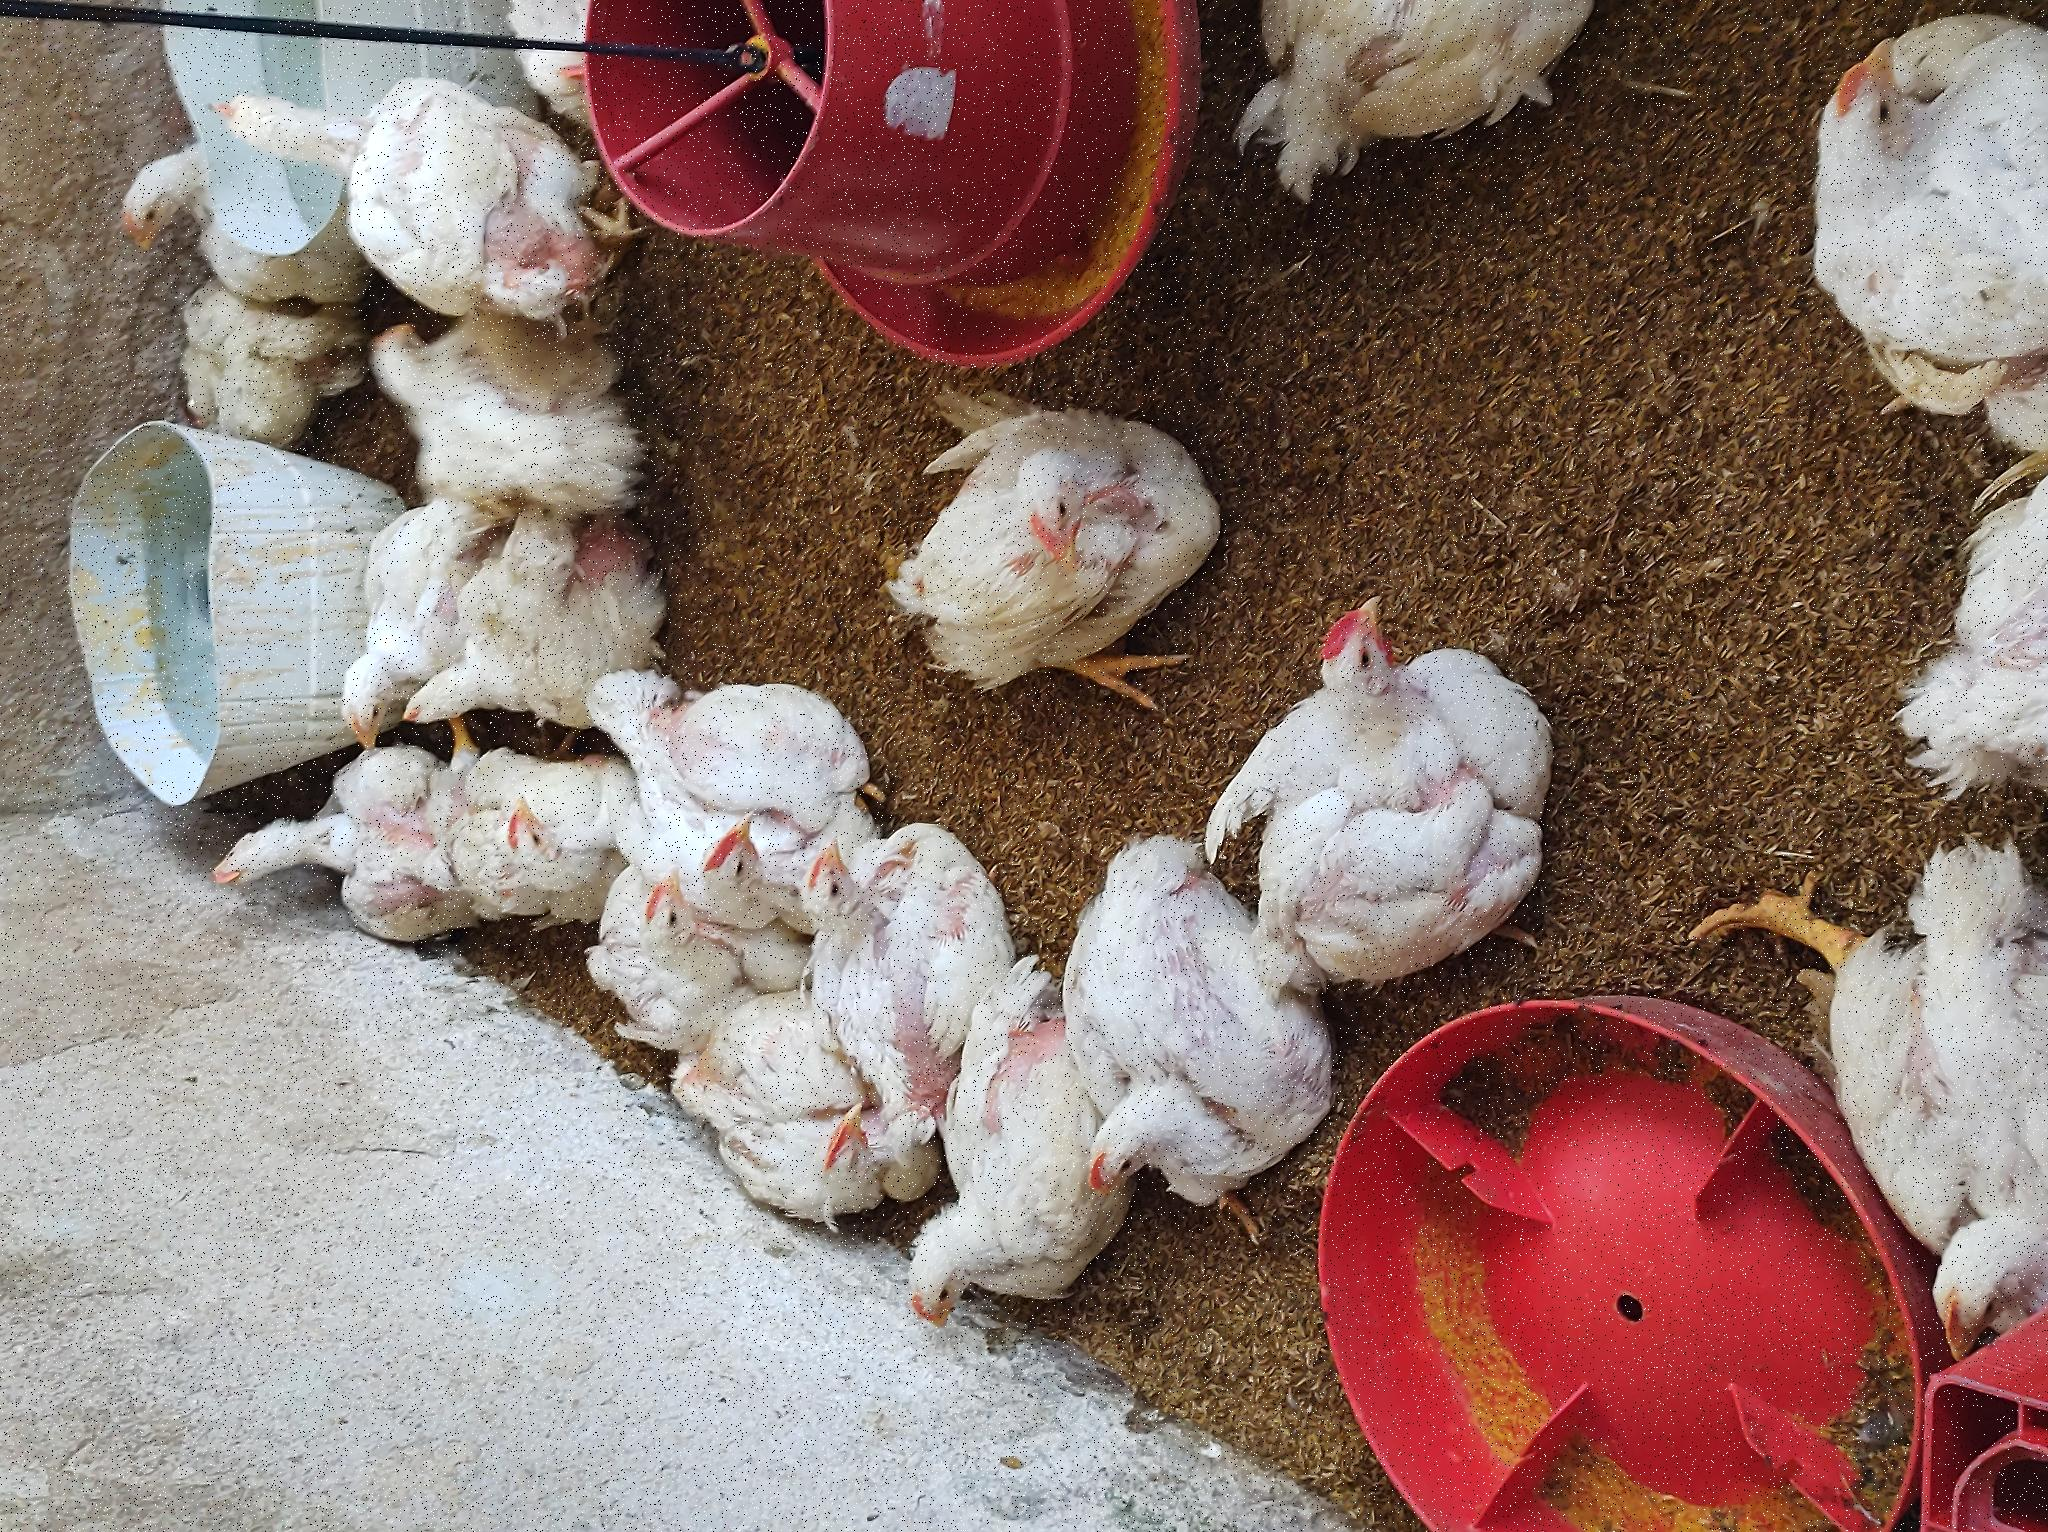Pollos: (570, 1183, 936, 1532), (845, 877, 1154, 1241), (1221, 216, 1482, 642), (327, 1040, 698, 1312), (166, 872, 560, 1114), (798, 386, 1001, 706), (412, 797, 713, 990), (597, 652, 883, 850), (1355, 1218, 1532, 1532), (1046, 378, 1269, 620), (269, 669, 529, 872), (570, 175, 780, 422), (1015, 140, 1244, 333), (790, 290, 1081, 431), (484, 554, 664, 711), (1276, 122, 1392, 225), (655, 491, 753, 599)
